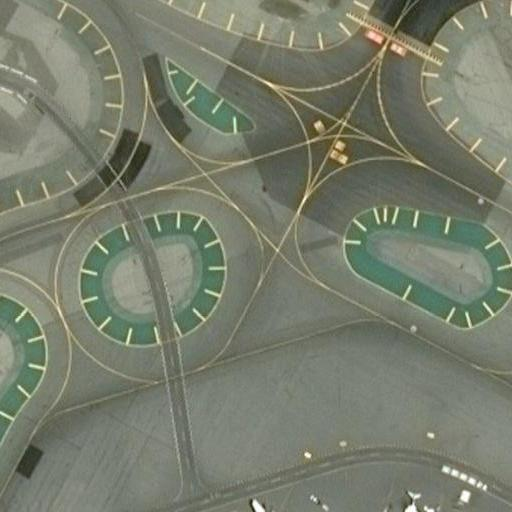Aircraft: (194, 498, 312, 512), (385, 491, 432, 512)
